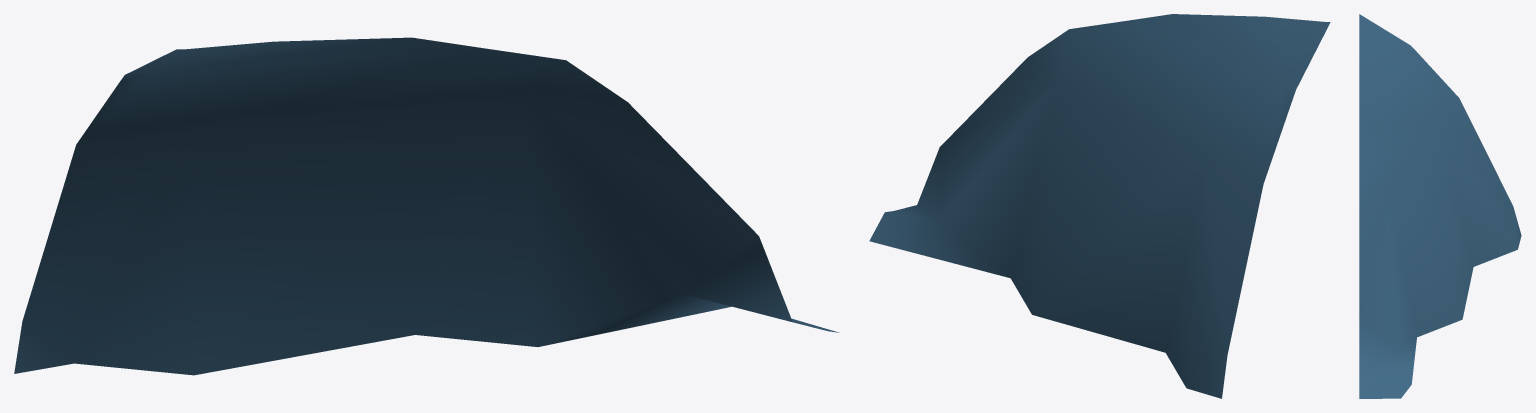
File: newsho-15.glb
The picture shows the model from 3 angles, left to right: view 1: azimuth 30°, elevation 25°; view 2: azimuth 150°, elevation 25°; view 3: azimuth 270°, elevation 25°; orthographic projection. The views are drawn at different scales.
Parts seen in each view (by area): view 1: newsho-15; view 2: newsho-15; view 3: newsho-15.
Part boxes in pixels (bbox=[...]): newsho-15: bbox=[14, 37, 839, 375]; newsho-15: bbox=[869, 14, 1330, 398]; newsho-15: bbox=[1359, 14, 1521, 398].
Bounding box in the file's own units: 0.5807 × 0.3791 × 0.2454.
